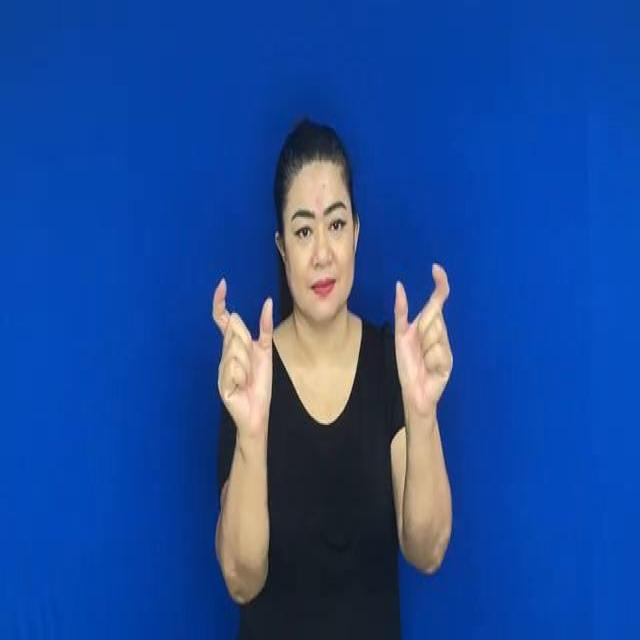crab: (383, 249, 469, 423), (202, 268, 284, 446)
